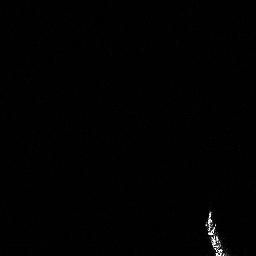ship: (202, 207, 231, 256)
